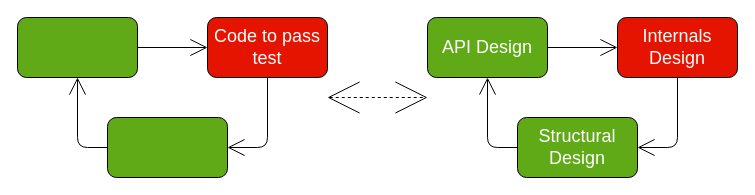
Image size: 755x195. Some labels were removed from this diagram. The shapes that lost their labels are listed below. From the top down, each one's box as (x1, y1, x2, y2) in pixels, then its label:
(16, 16, 138, 78): Write a failing test
(106, 116, 228, 178): Refactor
